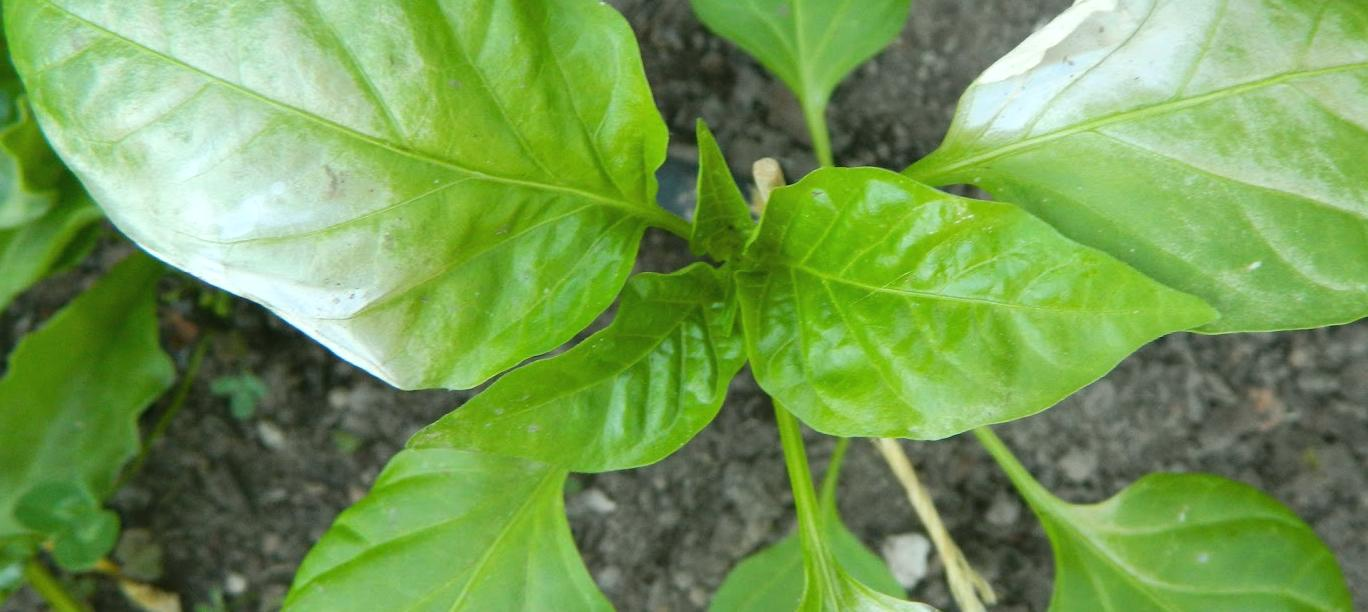Tomato leaf: (220, 295, 720, 612), (745, 173, 1200, 448)
